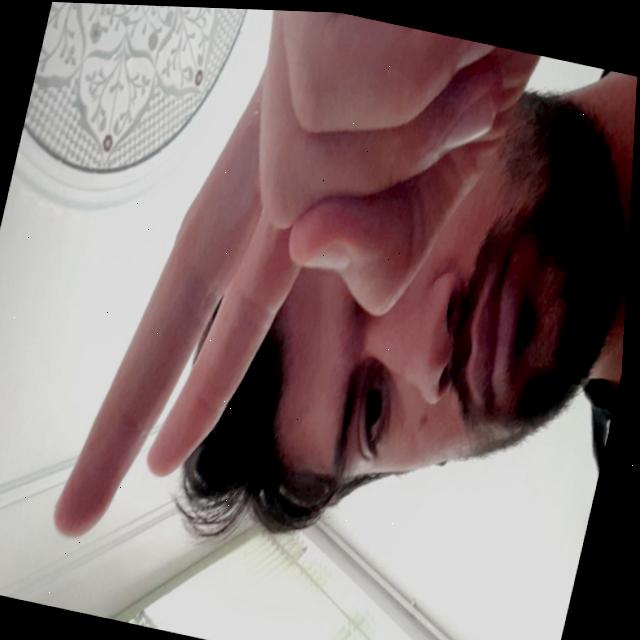Head: (158, 23, 639, 614)
Two: (40, 2, 547, 632)
